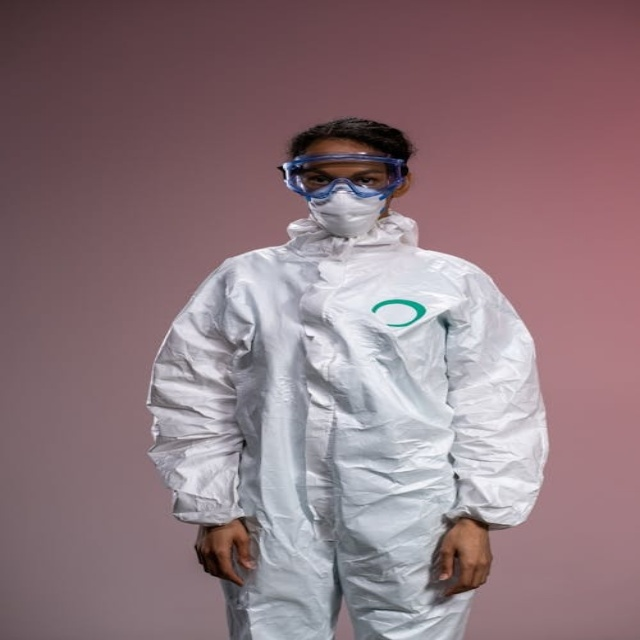Gafas: (279, 154, 406, 200)
Mascara: (300, 176, 395, 237)
Sin_guantes: (427, 518, 492, 596), (194, 518, 253, 585)
